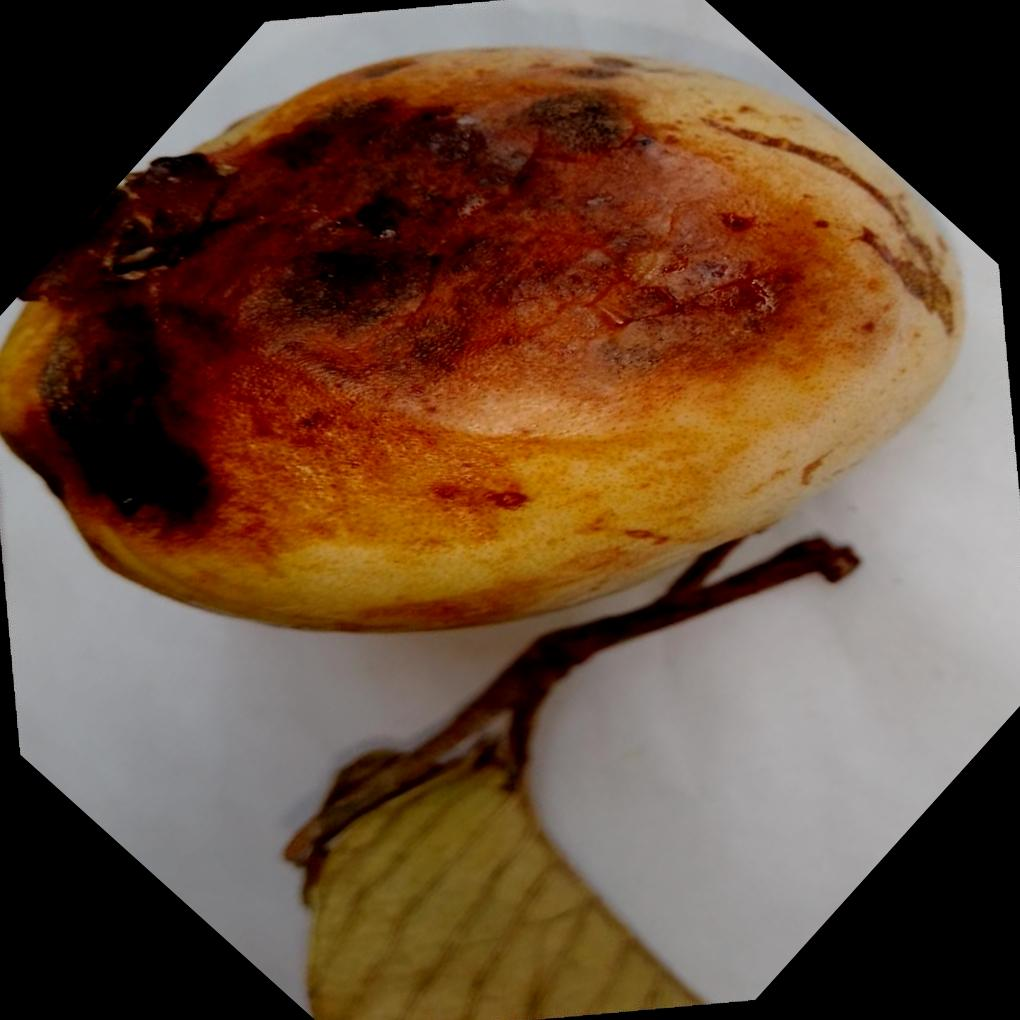FreshOrange: (0, 40, 967, 632)
